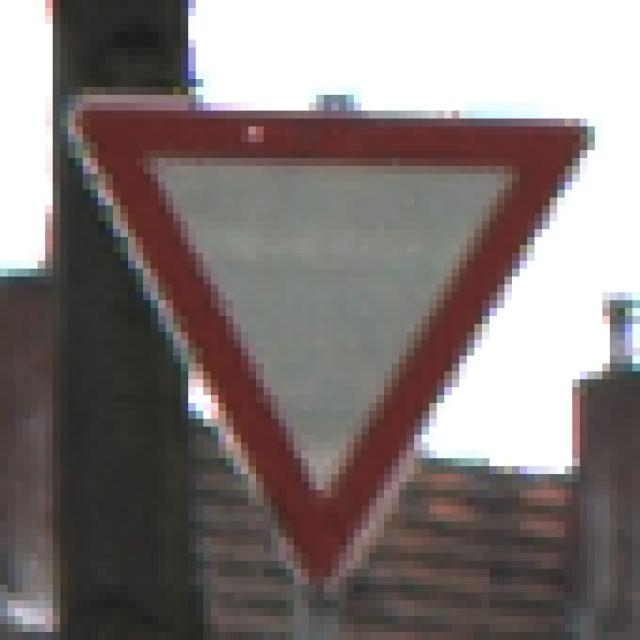Give Way: (54, 64, 581, 578)
